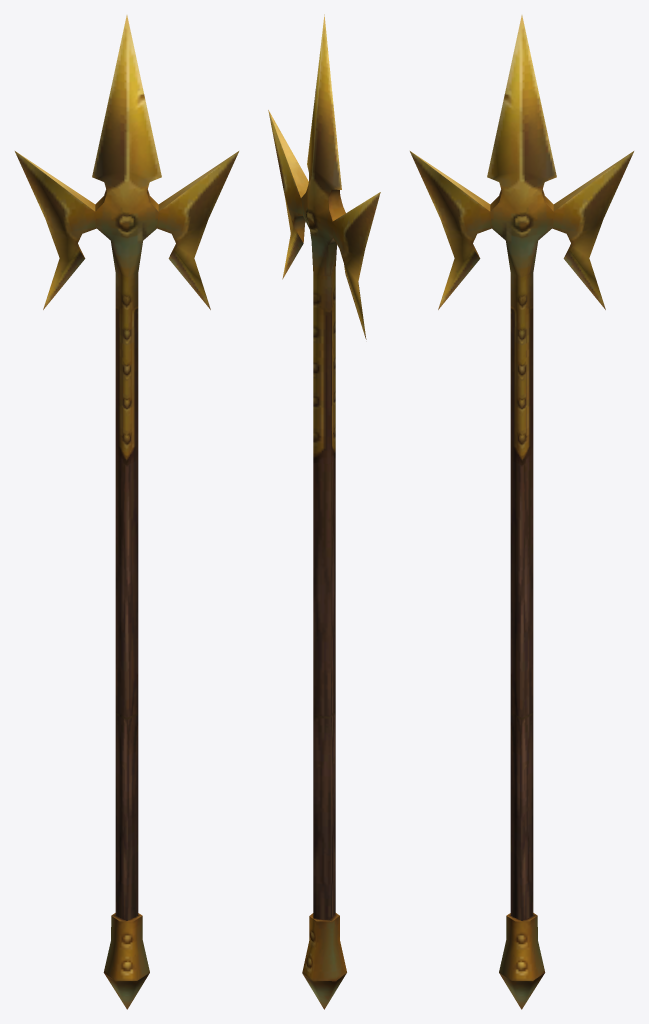
Rendered from polearm13_7c558ca5.glb.
The picture shows the model from 3 angles, left to right: view 1: azimuth 90°, elevation 25°; view 2: azimuth 210°, elevation 25°; view 3: azimuth 270°, elevation 25°; orthographic projection.
Bounding box in the file's own units: 0.1256 × 3.48 × 0.7127.
1 material, 1 textured.
